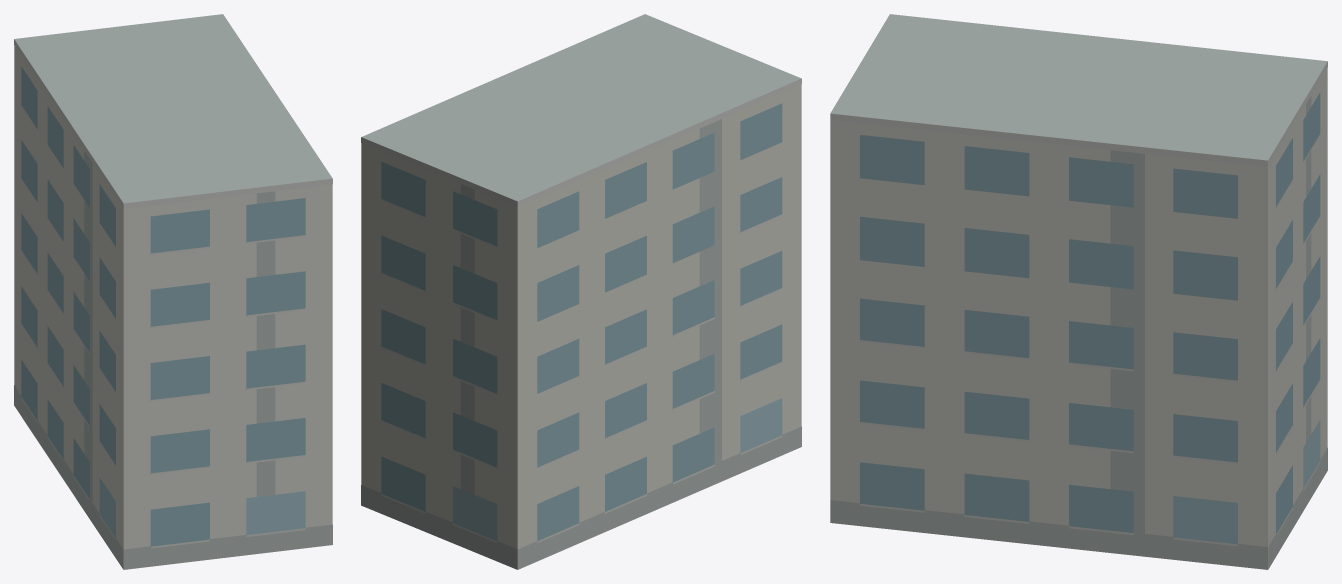
The model's file is residential-f9104fa4-aa5c-4094-9b3f-c03964476d06.glb.
The picture shows the model from 3 angles, left to right: view 1: azimuth 30°, elevation 25°; view 2: azimuth 150°, elevation 25°; view 3: azimuth 270°, elevation 25°; orthographic projection. The views are drawn at different scales.
Visible parts, largest first — view 1: residential-f9104fa4-aa5c-4094-9b3f-c03964476d06.tmp; view 2: residential-f9104fa4-aa5c-4094-9b3f-c03964476d06.tmp; view 3: residential-f9104fa4-aa5c-4094-9b3f-c03964476d06.tmp.
Boxes of the visible parts, <box> form: residential-f9104fa4-aa5c-4094-9b3f-c03964476d06.tmp: <box>14,14,332,569</box>; residential-f9104fa4-aa5c-4094-9b3f-c03964476d06.tmp: <box>361,14,801,569</box>; residential-f9104fa4-aa5c-4094-9b3f-c03964476d06.tmp: <box>830,14,1327,569</box>.
Bounding box in the file's own units: 11.72 × 15.25 × 16.81.
